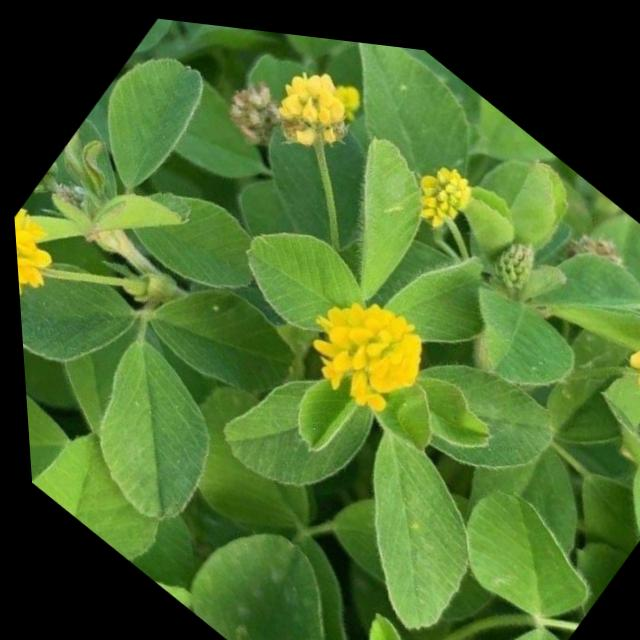Flower: (272, 253, 450, 435), (243, 24, 384, 170), (382, 124, 495, 247), (588, 268, 640, 412)
